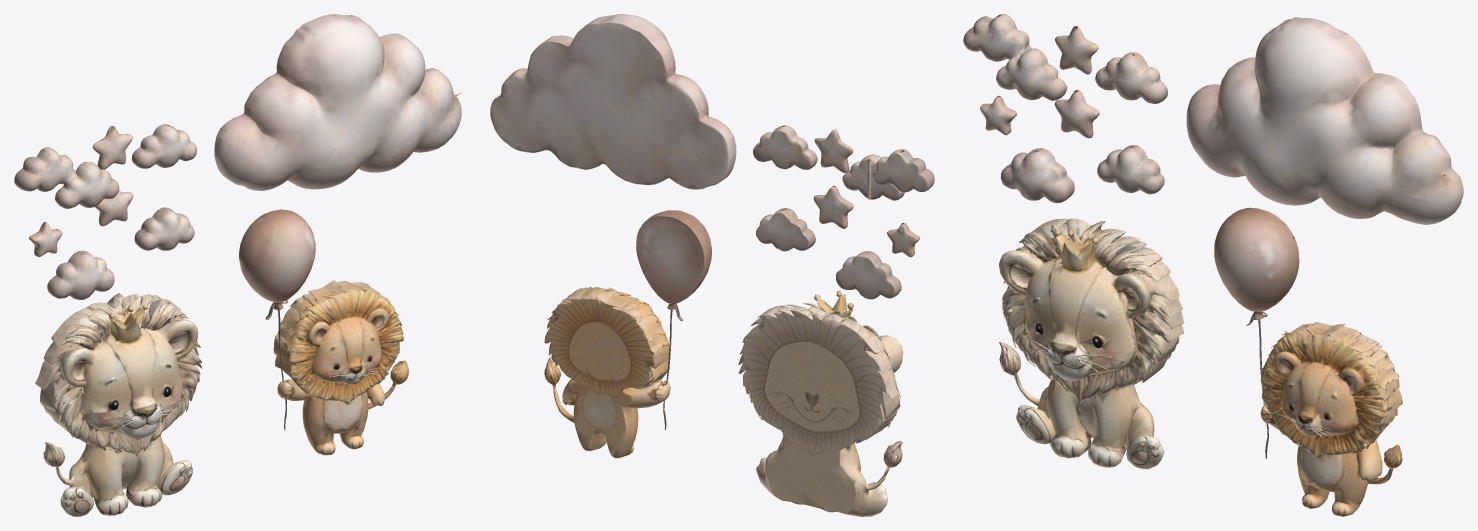
3 views of the same model, side by side, from view 1: azimuth 30°, elevation 25°; view 2: azimuth 150°, elevation 25°; view 3: azimuth 330°, elevation 25° (orthographic). The views are drawn at different scales.
Visible parts, largest first — view 1: Mesh 3, Mesh 2, Mesh 4, Mesh 1; view 2: Mesh 3, Mesh 2, Mesh 4, Mesh 1; view 3: Mesh 3, Mesh 2, Mesh 4, Mesh 1.
Part boxes in pixels (x1,y1,x2,y2): Mesh 3: [214, 14, 461, 190]; Mesh 2: [35, 293, 202, 516]; Mesh 4: [239, 209, 409, 455]; Mesh 1: [14, 124, 197, 299]; Mesh 3: [490, 14, 736, 189]; Mesh 2: [738, 290, 903, 516]; Mesh 4: [544, 210, 711, 458]; Mesh 1: [753, 125, 934, 299]; Mesh 3: [1186, 17, 1463, 224]; Mesh 2: [999, 218, 1184, 469]; Mesh 4: [1214, 207, 1402, 516]; Mesh 1: [963, 14, 1167, 203].
Bounding box in the file's own units: 1.9 × 1.81 × 0.2926.
4 materials, 4 textured.
